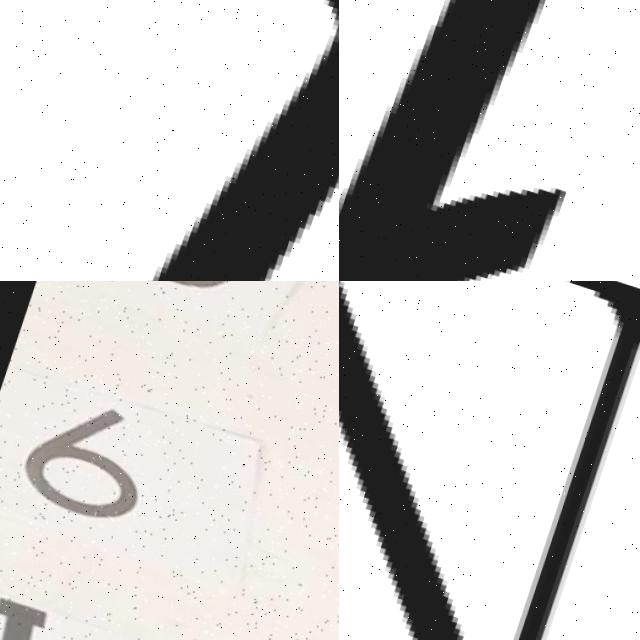1: (339, 0, 640, 281), (0, 581, 105, 640)
9: (0, 376, 203, 554), (98, 281, 275, 315)
N: (339, 281, 640, 640)
T: (0, 0, 339, 281)
